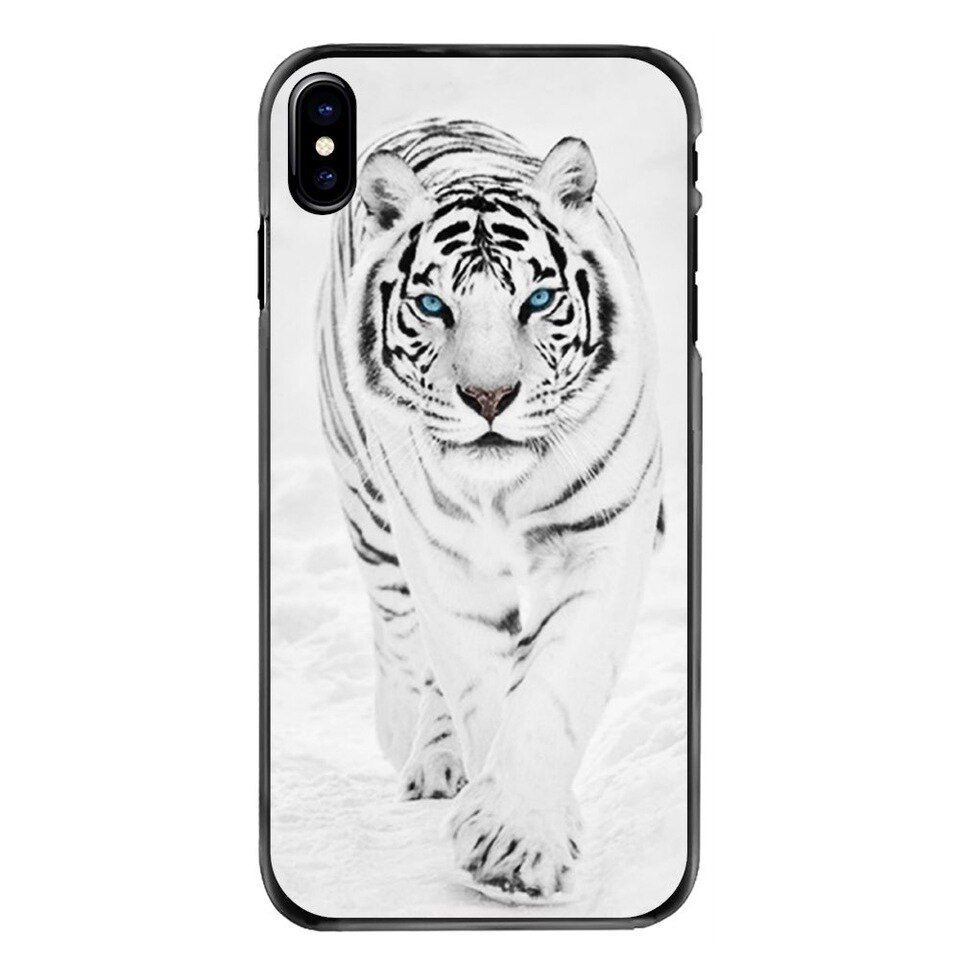Tigrew: (322, 109, 648, 900)
